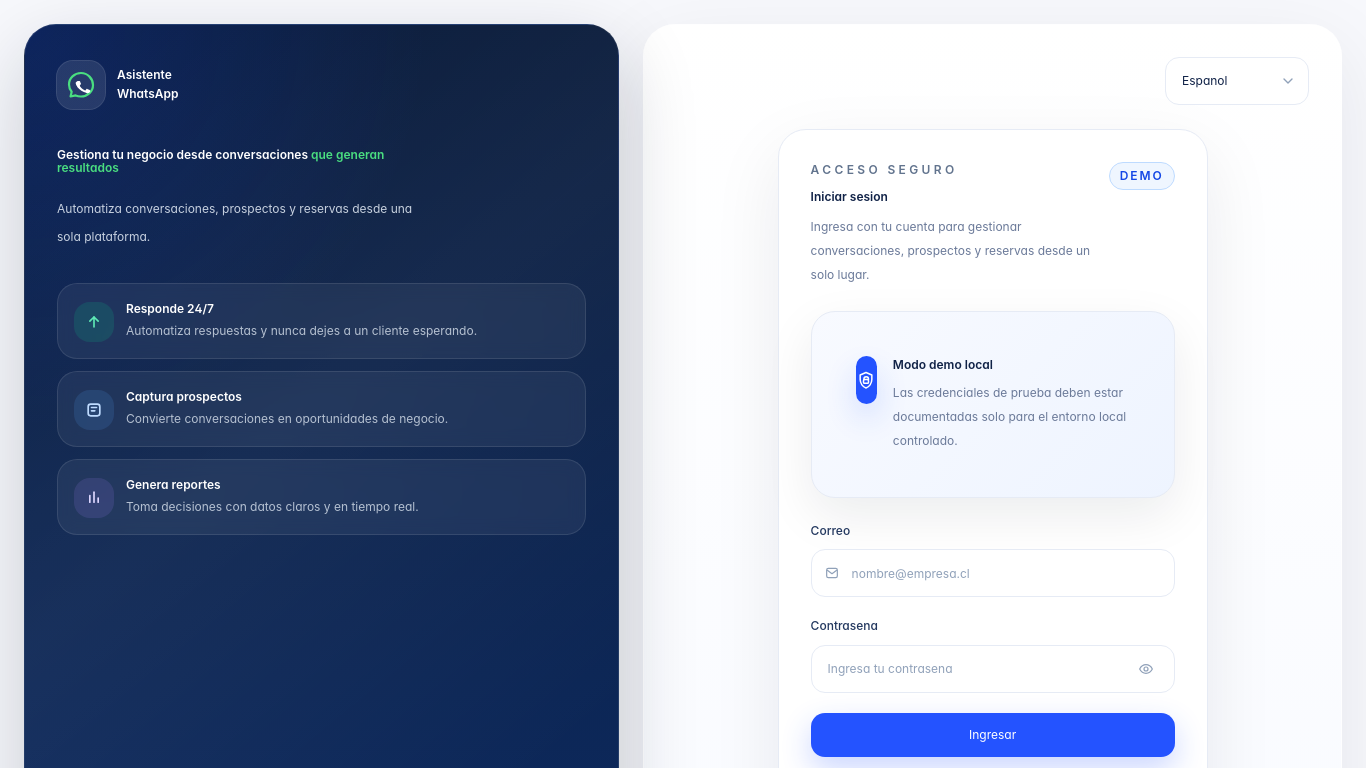
Test: app shell router › navigates from login to dashboard with a real backend-backed shell session
This screenshot has width=1366, height=768.
Type "admin@demo.cl" into the field labelled "Correo".
click(1007, 574); type("admin@demo.cl")  # box left=840, top=550, right=1174, bottom=596
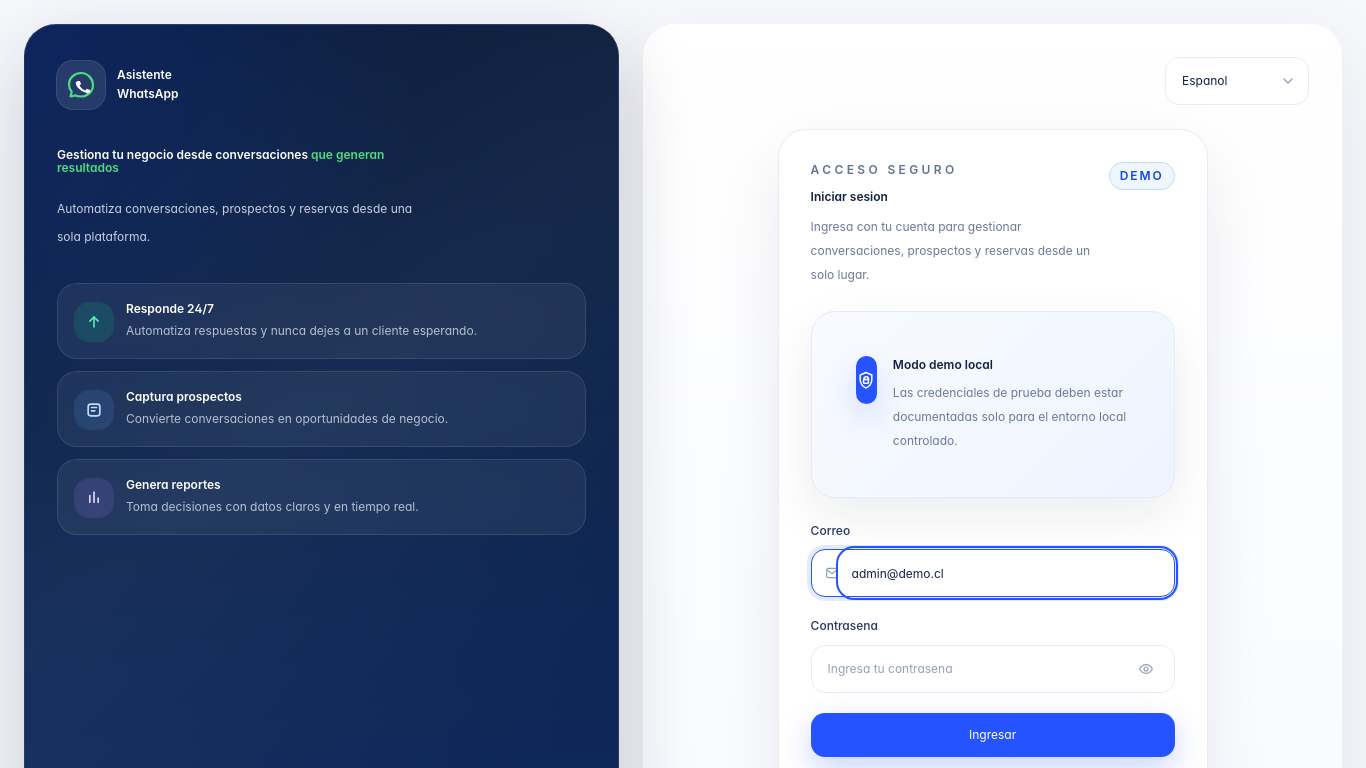
Type "Cambiar123!" into the password field labelled "Contrasena".
click(993, 669); type("Cambiar123!")  # box left=812, top=646, right=1174, bottom=692
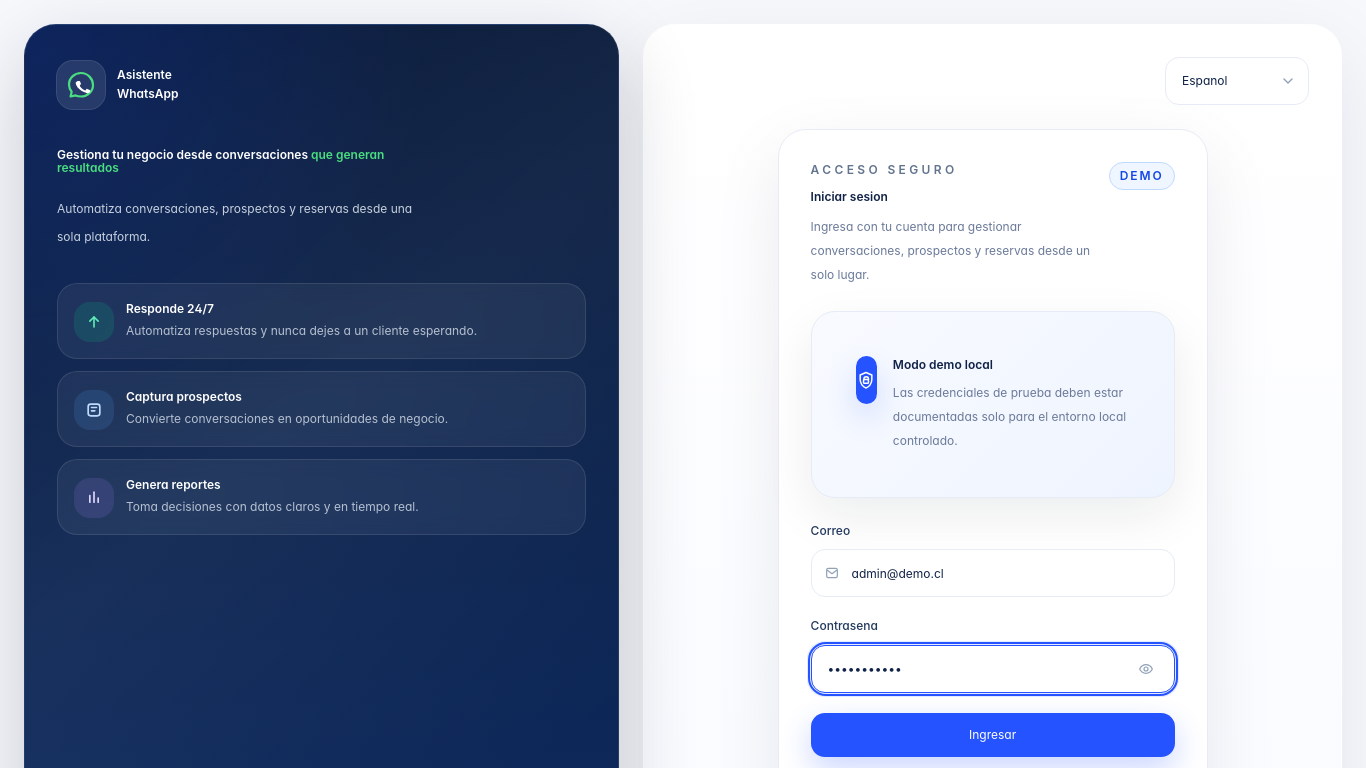
Click the button "Ingresar".
click(993, 735)  # box left=811, top=713, right=1175, bottom=757
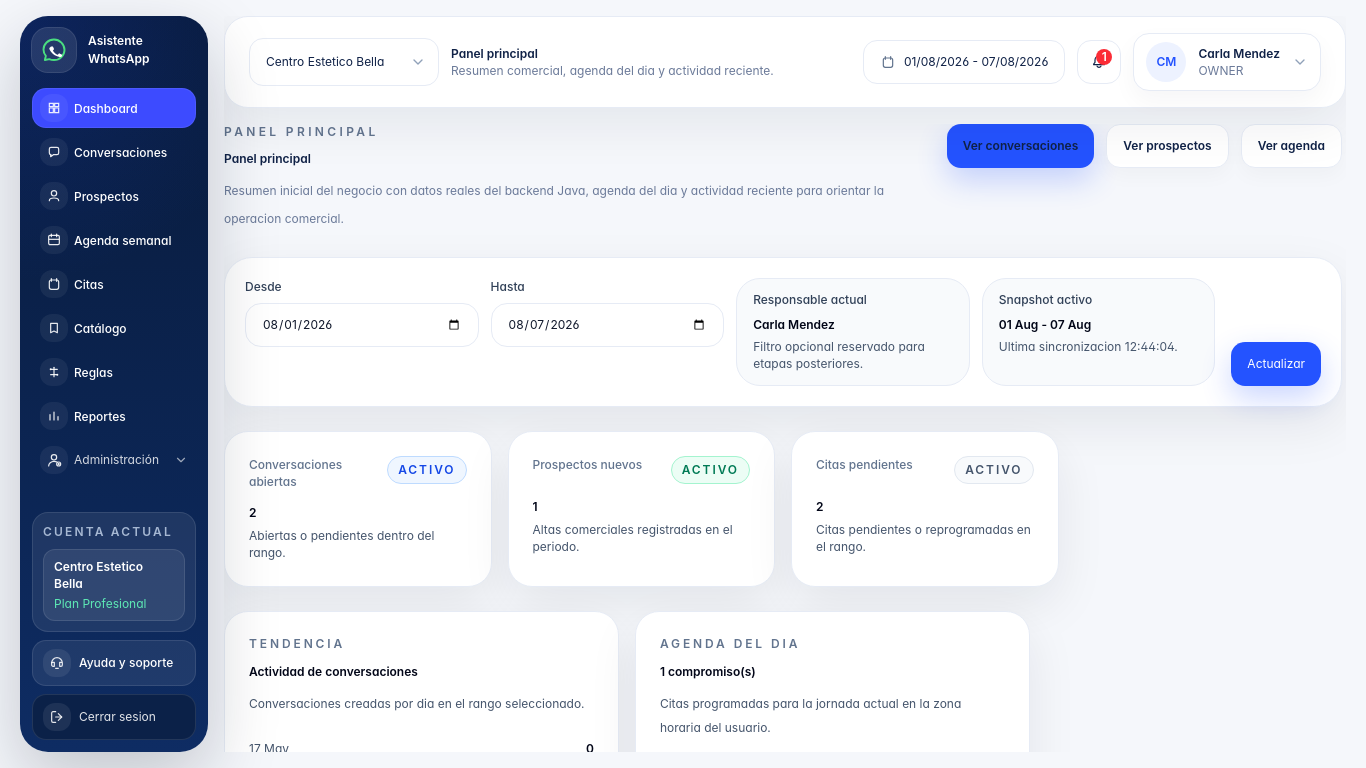
Now the text "Conversaciones abiertas" is shown, box left=249, top=457, right=342, bottom=489
Now the text "Centro Estetico Bella" is shown 2 times
Now the link named "Notificaciones (1)" is shown, box left=1077, top=40, right=1121, bottom=84
